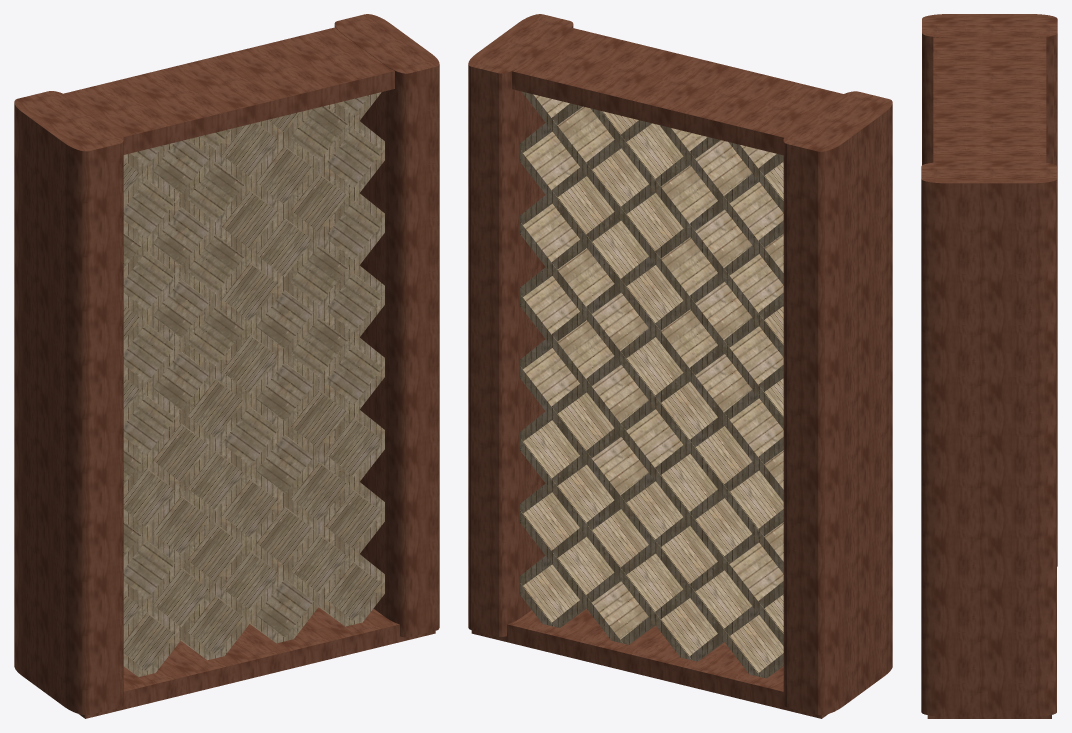
Rendered from Wine_case.fbx.
The picture shows the model from 3 angles, left to right: view 1: azimuth 30°, elevation 25°; view 2: azimuth 150°, elevation 25°; view 3: azimuth 270°, elevation 25°; orthographic projection. The views are drawn at different scales.
Parts seen in each view (by area): view 1: mergedBlocks; view 2: mergedBlocks; view 3: mergedBlocks.
Boxes of the visible parts, box(x1,y1,x2,y2) form: mergedBlocks: box(14, 14, 439, 718); mergedBlocks: box(468, 14, 892, 718); mergedBlocks: box(921, 14, 1057, 718).
Bounding box in the file's own units: 71 × 105 × 24.1.
Materials: 2 (2 with a texture image).
